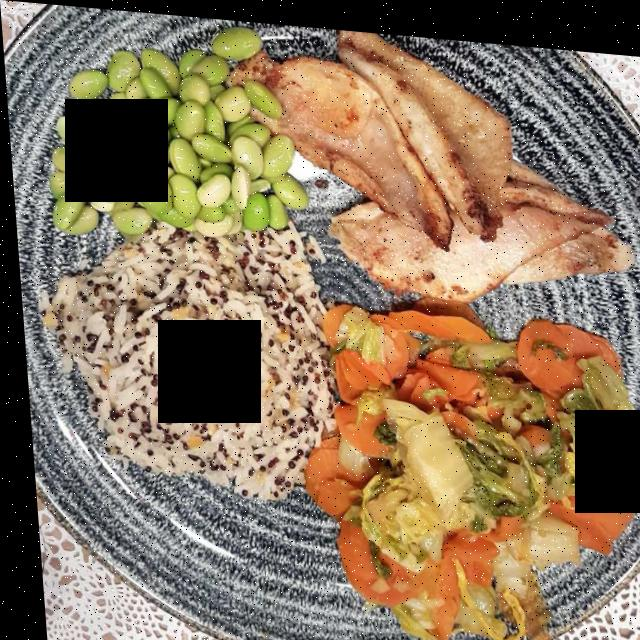carrot-raw: (307, 278, 624, 638)
chinese-cabbage: (333, 320, 640, 640)
lentils: (42, 225, 322, 496)
perch-fillets-lake: (248, 35, 639, 298)
quinoa: (54, 194, 315, 483)
rice: (49, 227, 323, 496)
